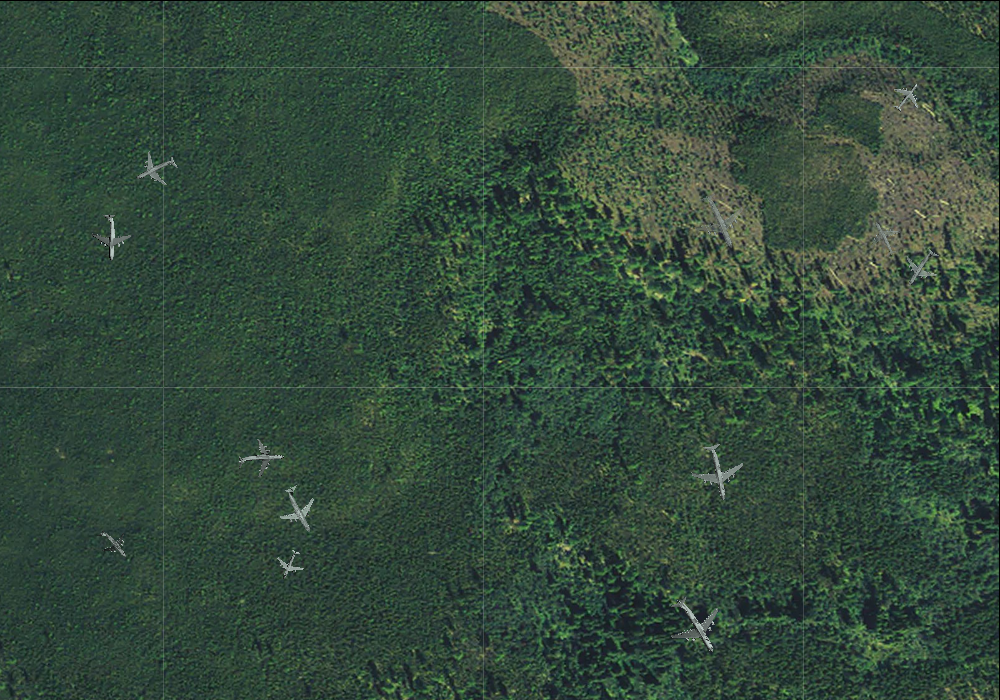plane: (653, 584, 736, 668), (682, 183, 756, 258), (685, 438, 749, 505), (267, 477, 330, 542), (893, 239, 950, 296), (126, 141, 184, 197), (860, 213, 908, 262), (88, 520, 136, 568), (86, 212, 133, 261), (236, 436, 284, 482), (885, 74, 929, 119), (270, 545, 309, 585)
